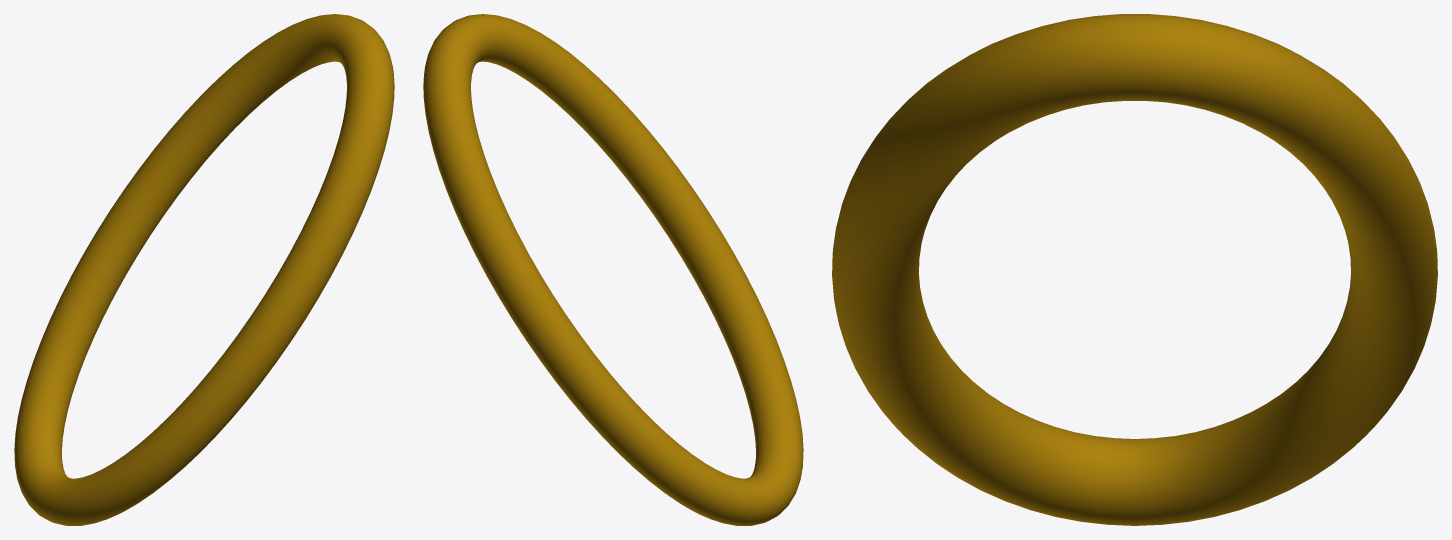
The model's file is rope_a.dae.
3 views of the same model, side by side, from view 1: azimuth 30°, elevation 25°; view 2: azimuth 150°, elevation 25°; view 3: azimuth 270°, elevation 25° (orthographic). The views are drawn at different scales.
Visible parts, largest first — view 1: ID2; view 2: ID2; view 3: ID2.
Boxes of the visible parts, box(x1,y1,x2,y2) form: ID2: box(14, 14, 394, 525); ID2: box(423, 14, 803, 525); ID2: box(832, 14, 1437, 525).
Bounding box in the file's own units: 0.0415 × 0.0348 × 0.049.
